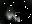person: (13, 10, 20, 22), (8, 8, 14, 21)
